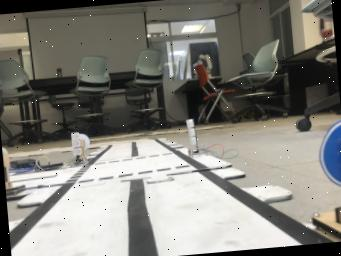forward: (318, 120, 341, 187), (311, 207, 341, 239)
street: (8, 139, 322, 256)
traffic_light: (185, 119, 207, 157), (68, 132, 81, 166)
